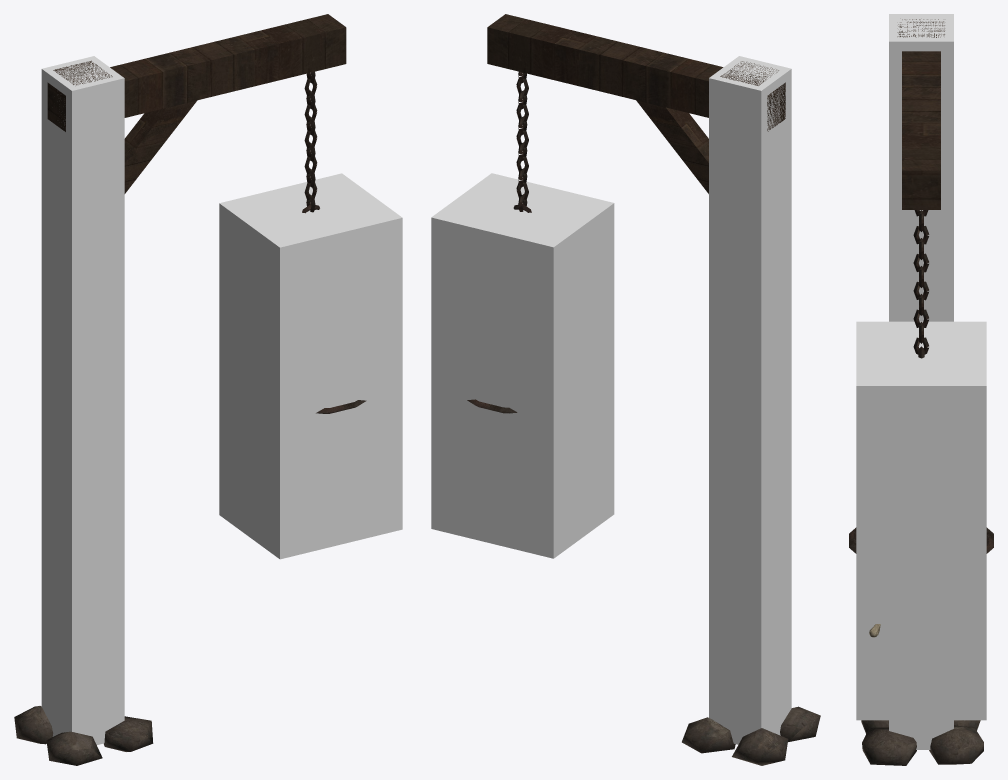
Rendered from gibbet_cage_v1_full.glb.
3 renders of one model, left to right at view 1: azimuth 30°, elevation 25°; view 2: azimuth 150°, elevation 25°; view 3: azimuth 270°, elevation 25°, orthographic. The views are drawn at different scales.
Parts seen in each view (by area): view 1: col_cage, col_post, gallows; view 2: col_cage, col_post, gallows; view 3: col_cage, col_post, gallows, cage.
Boxes of the visible parts, left/top/right/bottom form: col_cage: left=219, top=173, right=402, bottom=559; col_post: left=41, top=56, right=124, bottom=744; gallows: left=14, top=14, right=346, bottom=765; col_cage: left=431, top=173, right=614, bottom=558; col_post: left=709, top=56, right=791, bottom=744; gallows: left=487, top=14, right=820, bottom=765; col_cage: left=856, top=321, right=986, bottom=720; col_post: left=889, top=14, right=953, bottom=749; gallows: left=861, top=19, right=983, bottom=765; cage: left=849, top=346, right=993, bottom=637.
Size of the model in its own units: 1.97 by 3.68 by 0.6676.
Materials: 6 (6 with a texture image).
